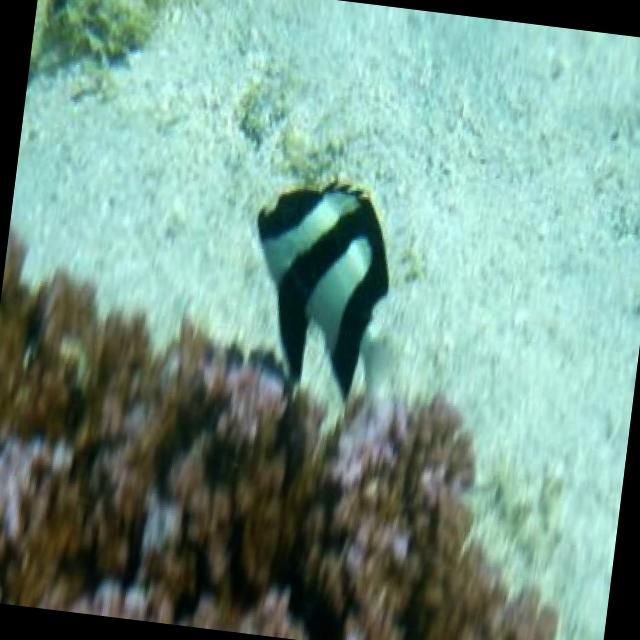Three_striped DasmselFish: (236, 172, 398, 403)
